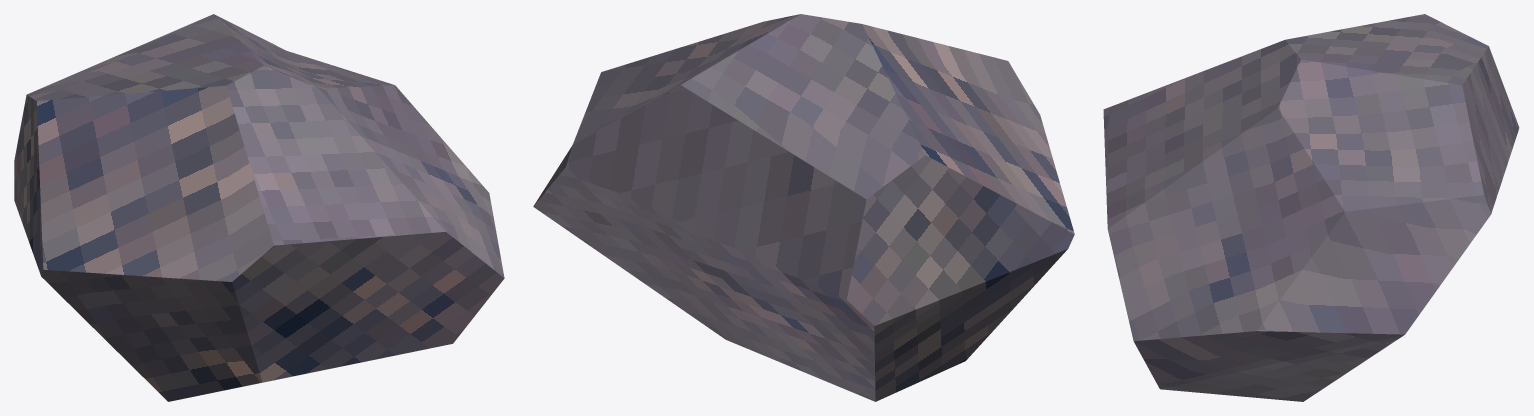
Rendered from rock4.glb.
The picture shows the model from 3 angles, left to right: view 1: azimuth 30°, elevation 25°; view 2: azimuth 150°, elevation 25°; view 3: azimuth 270°, elevation 25°; orthographic projection. The views are drawn at different scales.
Visible parts, largest first — view 1: big rock.001; view 2: big rock.001; view 3: big rock.001.
Boxes of the visible parts, x1,y1,x2,y2 form: big rock.001: (14,14,504,401); big rock.001: (533,14,1074,401); big rock.001: (1103,14,1519,401).
Bounding box in the file's own units: 0.4719 × 0.3171 × 0.3771.
Materials: 1 (1 with a texture image).
